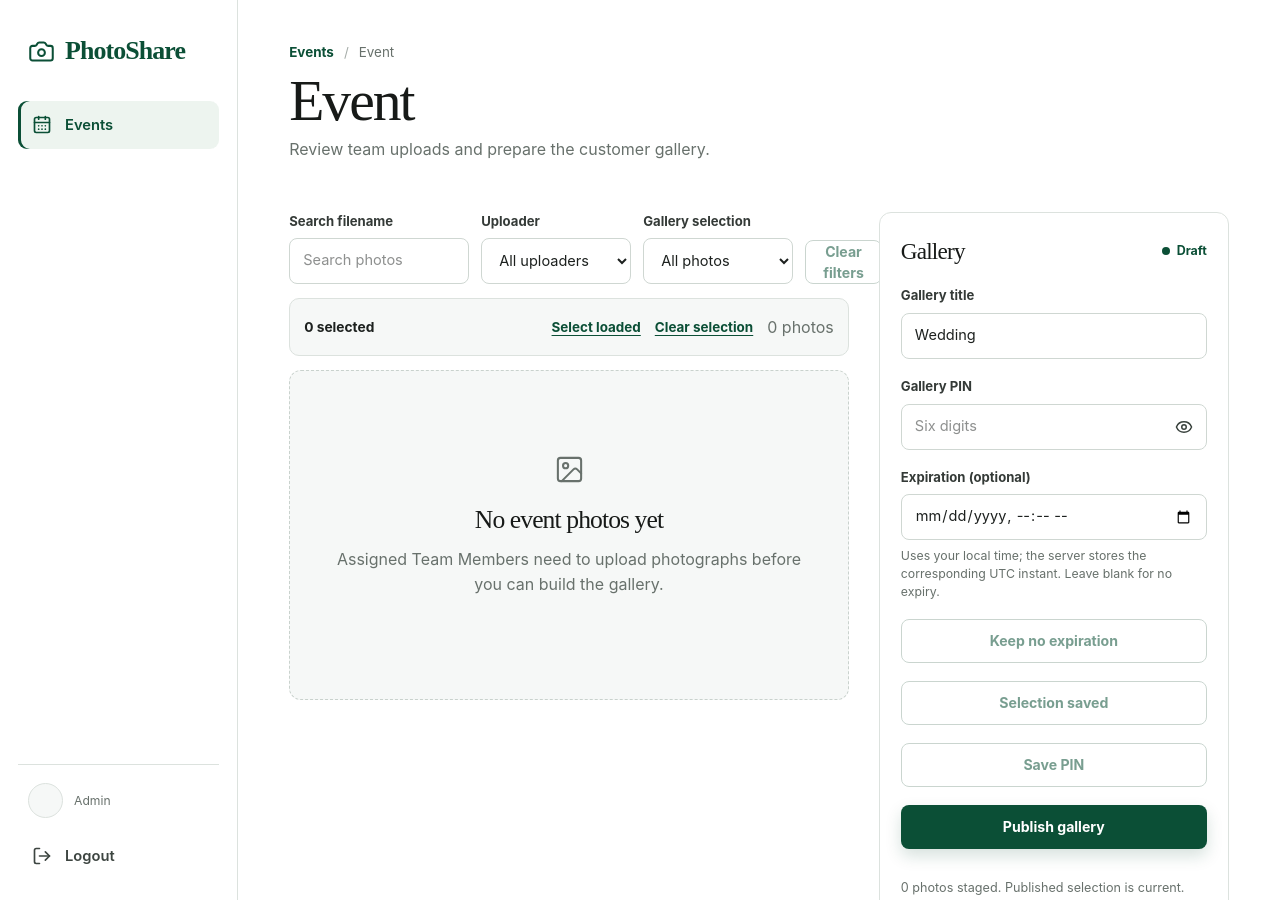
Scenario: critical frontend boundaries › debounces Admin filename search and combines uploader and selection filters
The width and height of the screenshot is (1280, 900).
Expected: the heading "Event" is shown, [289, 69, 414, 132]
Step 1. Type "portrait" into the search field labelled "Search filename" → (379, 261), box [289, 238, 469, 284]
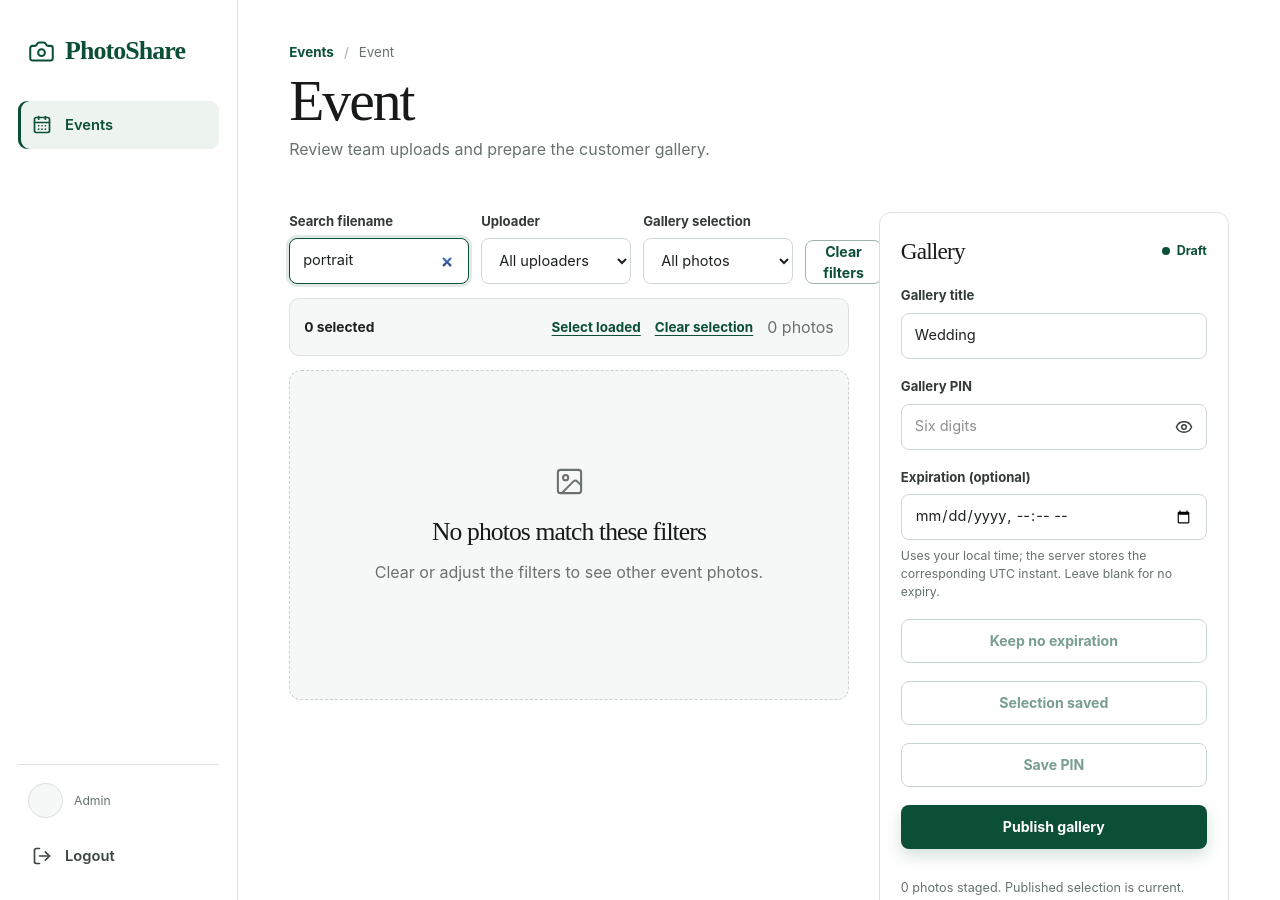
Step 2. Select "Alex" in the dropdown labelled "Uploader" → (556, 261), box [481, 238, 631, 284]
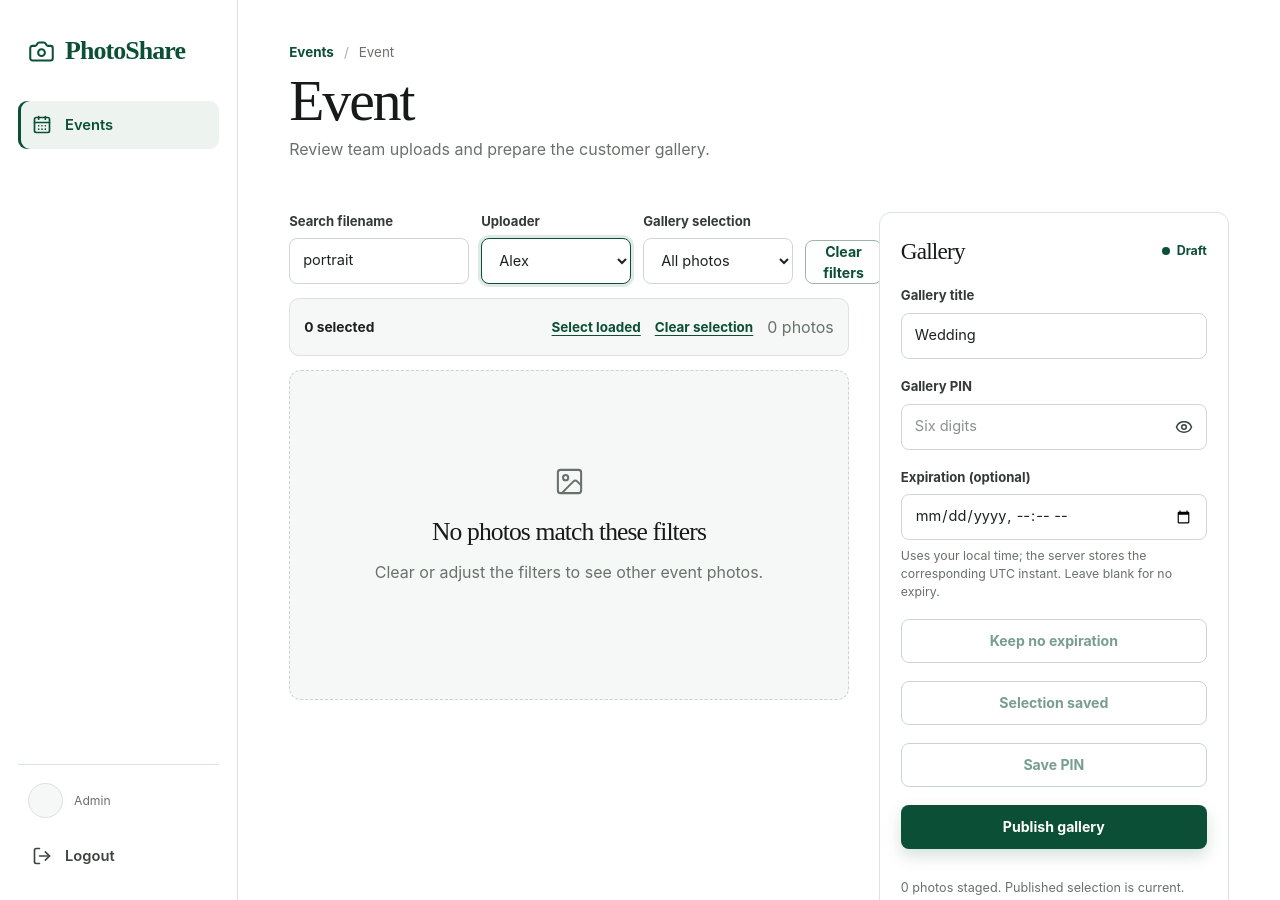
Step 3. Select "Selected" in the dropdown labelled "Gallery selection" → (718, 261), box [643, 238, 793, 284]
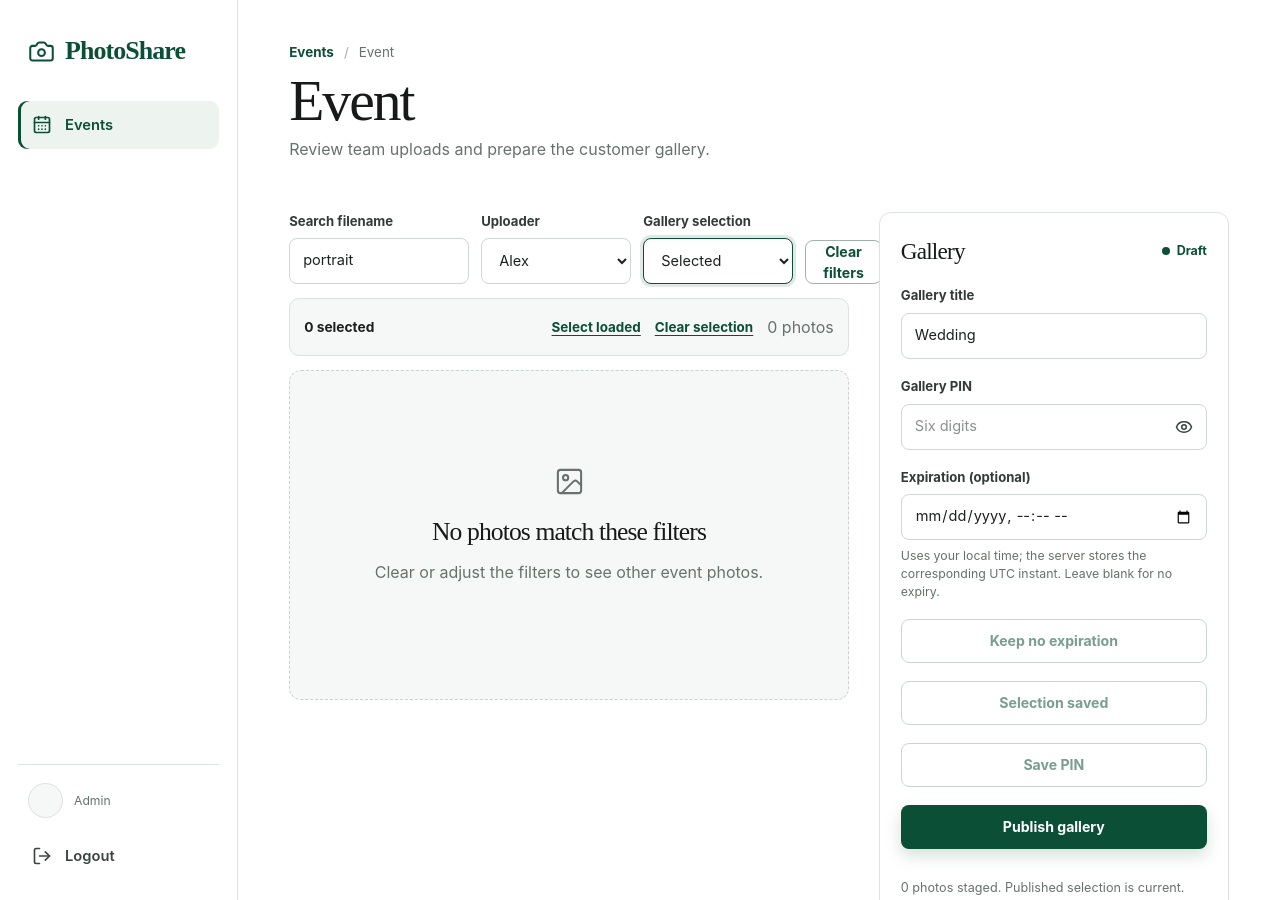
Step 4. Click the button "Clear filters" → (844, 262), box [805, 240, 882, 284]
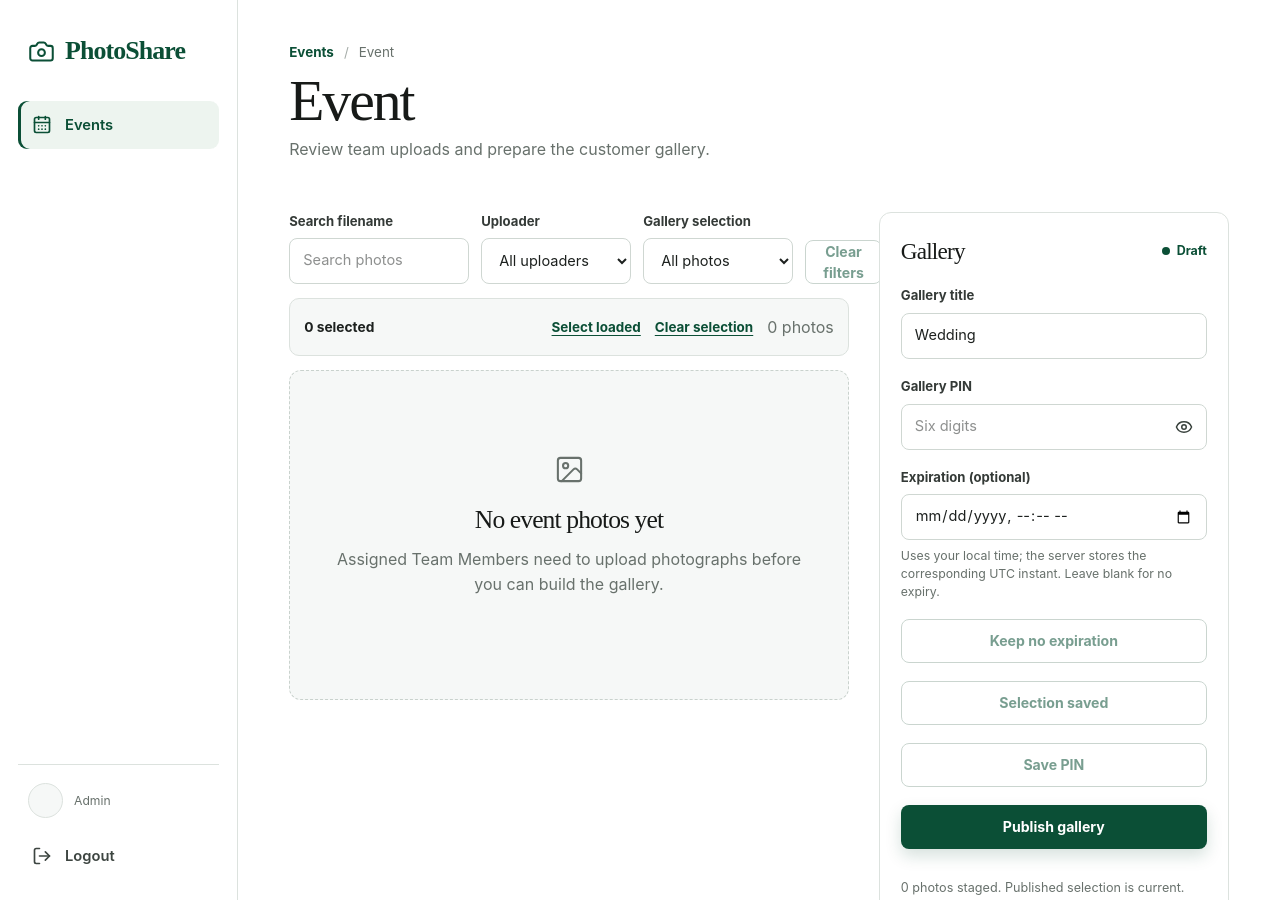
Now the search field labelled "Search filename" is empty, box [289, 238, 469, 284]
